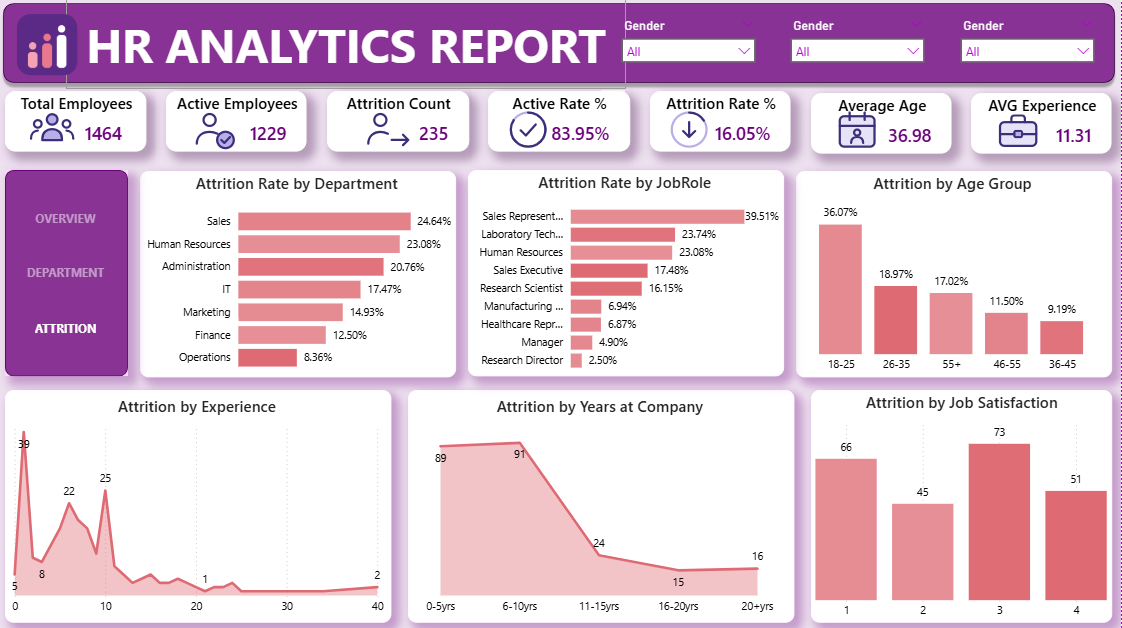

The page's visual inventory and layout, read from the dashboard file:
{"tool":"powerbi","page":{"name":"Attrition","canvas":[1280,720],"ordinal":2},"visuals":[{"type":"shape","box":[0,0,1280,104.8],"z":0},{"type":"cardVisual","title":"Total Employees","fields":{"Data":["Measures (2).Total Employee"]},"box":[9.1,107,161,69],"z":0,"group":"g1"},{"type":"shape","box":[78.6,0,637.7,104.8],"z":1000},{"type":"cardVisual","title":"Active Rate %","fields":{"Data":["Measures (2).Active Rate"]},"box":[559.5,107,161.6,69],"z":1000,"group":"g1"},{"type":"group","id":"g1","title":"Group 1","box":[9.1,107,1260.6,71.3],"z":2000},{"type":"cardVisual","title":"Attrition Count","fields":{"Data":["Measures (2).Inactive Employee"]},"box":[375.5,107,161.6,69],"z":2000,"group":"g1"},{"type":"cardVisual","title":"Active Employees","fields":{"Data":["Measures (2).Active Employee"]},"box":[192.6,107,160.4,69],"z":3000,"group":"g1"},{"type":"image","box":[35.3,120.7,54.7,55.8],"z":3000},{"type":"cardVisual","title":"Attrition Rate %","fields":{"Data":["Measures (2).Attrition Rate"]},"box":[743.5,107,160.4,69],"z":4000,"group":"g1"},{"type":"image","box":[219.8,123,54.7,55.8],"z":4000},{"type":"cardVisual","title":"Average Age","fields":{"Data":["Measures (2).Average Age"]},"box":[926.4,109.3,160.4,69],"z":5000,"group":"g1"},{"type":"image","box":[952,123,54.7,55.8],"z":5000},{"type":"cardVisual","title":"AVG Experience","fields":{"Data":["Measures (2).Average Experience"]},"box":[1109.3,109.3,160.4,69],"z":6000,"group":"g1"},{"type":"image","box":[416.8,123,54.7,55.8],"z":6000},{"type":"image","box":[577.4,123,54.7,55.8],"z":7000},{"type":"image","box":[760.7,123,54.7,55.8],"z":8000},{"type":"image","box":[1135.4,123,54.7,55.8],"z":9000},{"type":"clusteredColumnChart","title":"Attrition by Age Group","fields":{"Category":["HR_Analytics-4.AgeGroup"],"Y":["Measures (2).Attrition Rate"]},"box":[909.9,198.1,359.9,234.6],"z":10000},{"type":"barChart","fields":{"Category":["HR_Analytics-4.Department"],"Y":["Measures (2).Attrition Rate"]},"box":[162.5,198.1,360,234.6],"z":11000},{"type":"shape","box":[8.8,197.5,140,235],"z":12000},{"type":"shape","box":[19.4,220.9,117.3,62.6],"z":13000},{"type":"areaChart","title":"Attrition by Experience","fields":{"Category":["HR_Analytics-4.TotalExperience(Years)"],"Y":["Measures (2).Attrition"]},"box":[9.1,447.5,440,265],"z":14000},{"type":"shape","box":[19.4,282.4,117.3,62.6],"z":15000},{"type":"shape","box":[19.4,346.2,117.3,62.6],"z":16000},{"type":"areaChart","title":"Attrition by Years at Company","fields":{"Y":["Measures (2).Attrition"],"Category":["HR_Analytics-4.Experience Group"]},"box":[468,447.5,440,265],"z":17000},{"type":"barChart","fields":{"Y":["Measures (2).Attrition Rate"],"Category":["HR_Analytics-4.JobRole"]},"box":[536.3,197,359.9,234.6],"z":18000},{"type":"columnChart","title":"Attrition by Job Satisfaction","fields":{"Category":["HR_Analytics-4.JobSatisfaction"],"Y":["Measures (2).Attrition"]},"box":[927,447.5,342.8,265.3],"z":21000},{"type":"slicer","fields":{"Values":["HR_Analytics-4.Gender"]},"box":[701.5,19.4,172,69.5],"z":22000},{"type":"image","box":[0,5.7,113.9,96.8],"z":22001},{"type":"slicer","fields":{"Values":["HR_Analytics-4.Gender"]},"box":[894.5,19.4,172,69.5],"z":22002},{"type":"slicer","fields":{"Values":["HR_Analytics-4.Gender"]},"box":[1087.5,19.4,172,69.5],"z":22003}]}

Visuals, with their boxes in screenshot pixels (x1, y1, x2, y2), scaled from the page's 1280x720 canvas onto the 1122x628 screenshot:
shape: (x1=0, y1=0, x2=1121, y2=91)
"Total Employees" cardVisual: (x1=8, y1=93, x2=149, y2=154)
shape: (x1=69, y1=0, x2=628, y2=91)
"Active Rate %" cardVisual: (x1=490, y1=93, x2=632, y2=154)
"Group 1" group: (x1=8, y1=93, x2=1113, y2=156)
"Attrition Count" cardVisual: (x1=329, y1=93, x2=471, y2=154)
"Active Employees" cardVisual: (x1=169, y1=93, x2=309, y2=154)
image: (x1=31, y1=105, x2=79, y2=154)
"Attrition Rate %" cardVisual: (x1=652, y1=93, x2=792, y2=154)
image: (x1=193, y1=107, x2=241, y2=156)
"Average Age" cardVisual: (x1=812, y1=95, x2=953, y2=156)
image: (x1=834, y1=107, x2=882, y2=156)
"AVG Experience" cardVisual: (x1=972, y1=95, x2=1113, y2=156)
image: (x1=365, y1=107, x2=413, y2=156)
image: (x1=506, y1=107, x2=554, y2=156)
image: (x1=667, y1=107, x2=715, y2=156)
image: (x1=995, y1=107, x2=1043, y2=156)
"Attrition by Age Group" clusteredColumnChart: (x1=798, y1=173, x2=1113, y2=377)
barChart - HR_Analytics-4.Department x Measures (2).Attrition Rate: (x1=142, y1=173, x2=458, y2=377)
shape: (x1=8, y1=172, x2=130, y2=377)
shape: (x1=17, y1=193, x2=120, y2=247)
"Attrition by Experience" areaChart: (x1=8, y1=390, x2=394, y2=621)
shape: (x1=17, y1=246, x2=120, y2=301)
shape: (x1=17, y1=302, x2=120, y2=357)
"Attrition by Years at Company" areaChart: (x1=410, y1=390, x2=796, y2=621)
barChart - Measures (2).Attrition Rate x HR_Analytics-4.JobRole: (x1=470, y1=172, x2=786, y2=376)
"Attrition by Job Satisfaction" columnChart: (x1=813, y1=390, x2=1113, y2=622)
slicer - HR_Analytics-4.Gender: (x1=615, y1=17, x2=766, y2=78)
image: (x1=0, y1=5, x2=100, y2=89)
slicer - HR_Analytics-4.Gender: (x1=784, y1=17, x2=935, y2=78)
slicer - HR_Analytics-4.Gender: (x1=953, y1=17, x2=1104, y2=78)
